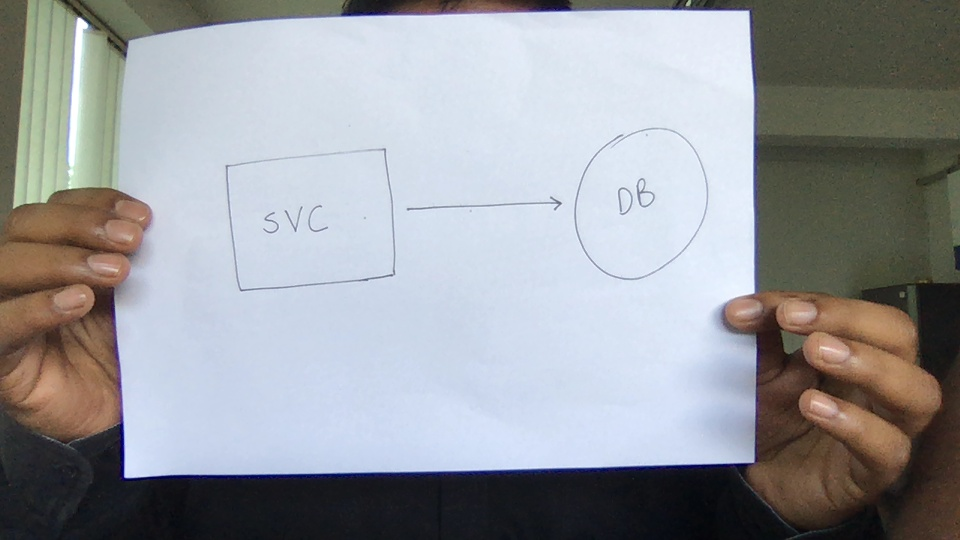db: (566, 119, 712, 288)
ec2: (222, 144, 400, 296)
